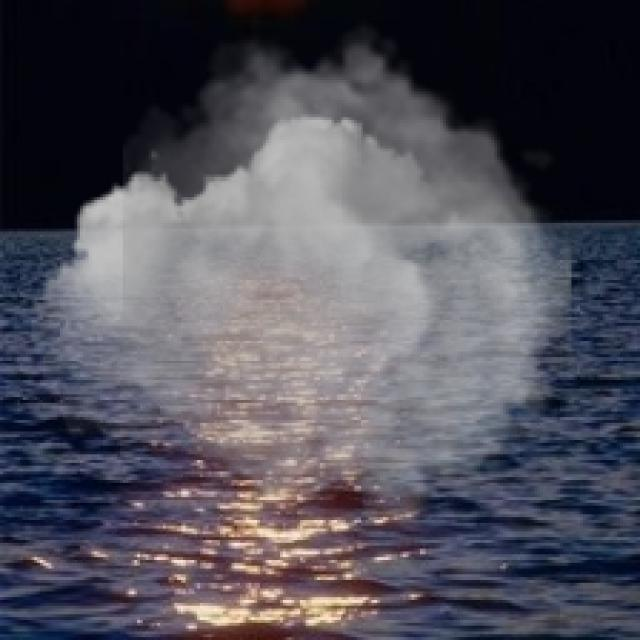Smoke: (31, 20, 572, 537)
